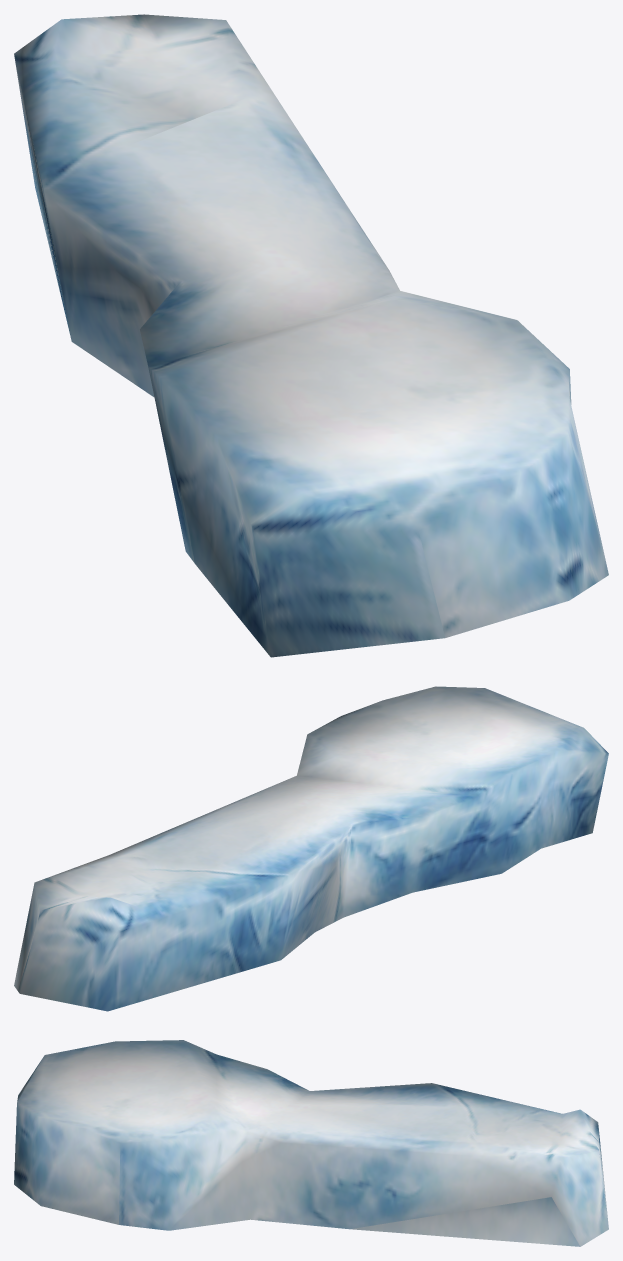
File: SM_stoneA_08.fbx
The picture shows the model from 3 angles, top to bottom: view 1: azimuth 30°, elevation 25°; view 2: azimuth 150°, elevation 25°; view 3: azimuth 270°, elevation 25°; orthographic projection. The views are drawn at different scales.
Parts seen in each view (by area): view 1: SM_stoneA_08; view 2: SM_stoneA_08; view 3: SM_stoneA_08.
Part boxes in pixels (<box>): SM_stoneA_08: <box>14,14,608,657</box>; SM_stoneA_08: <box>14,686,608,1011</box>; SM_stoneA_08: <box>14,1040,608,1246</box>.
Size of the model in its own units: 7.7 by 3.02 by 15.88.
